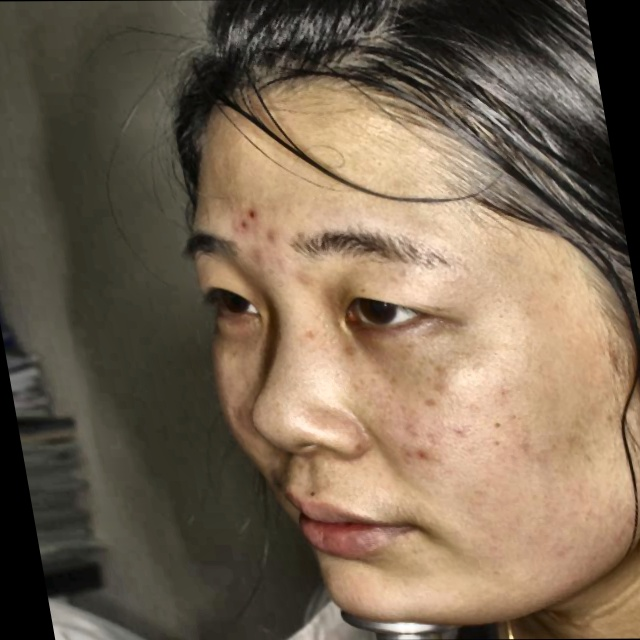comedone: (403, 445, 440, 467), (257, 225, 283, 248)
